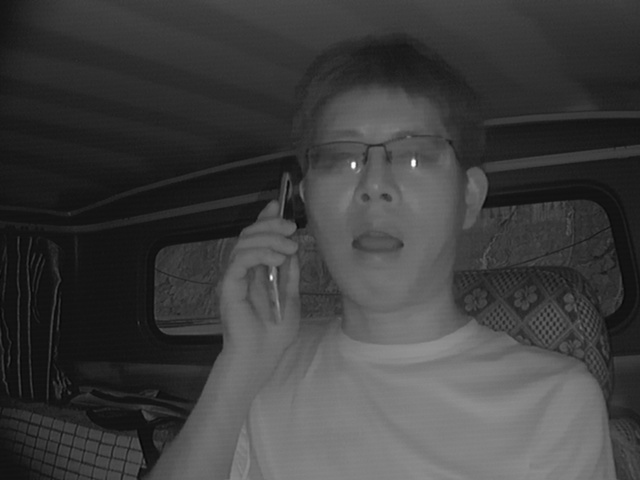hand: (217, 199, 303, 351)
